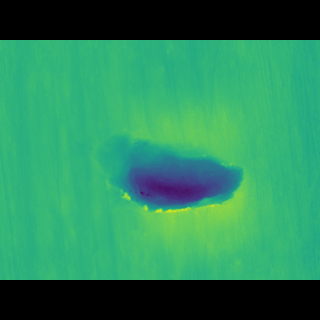Loch: (69, 132, 244, 205)
